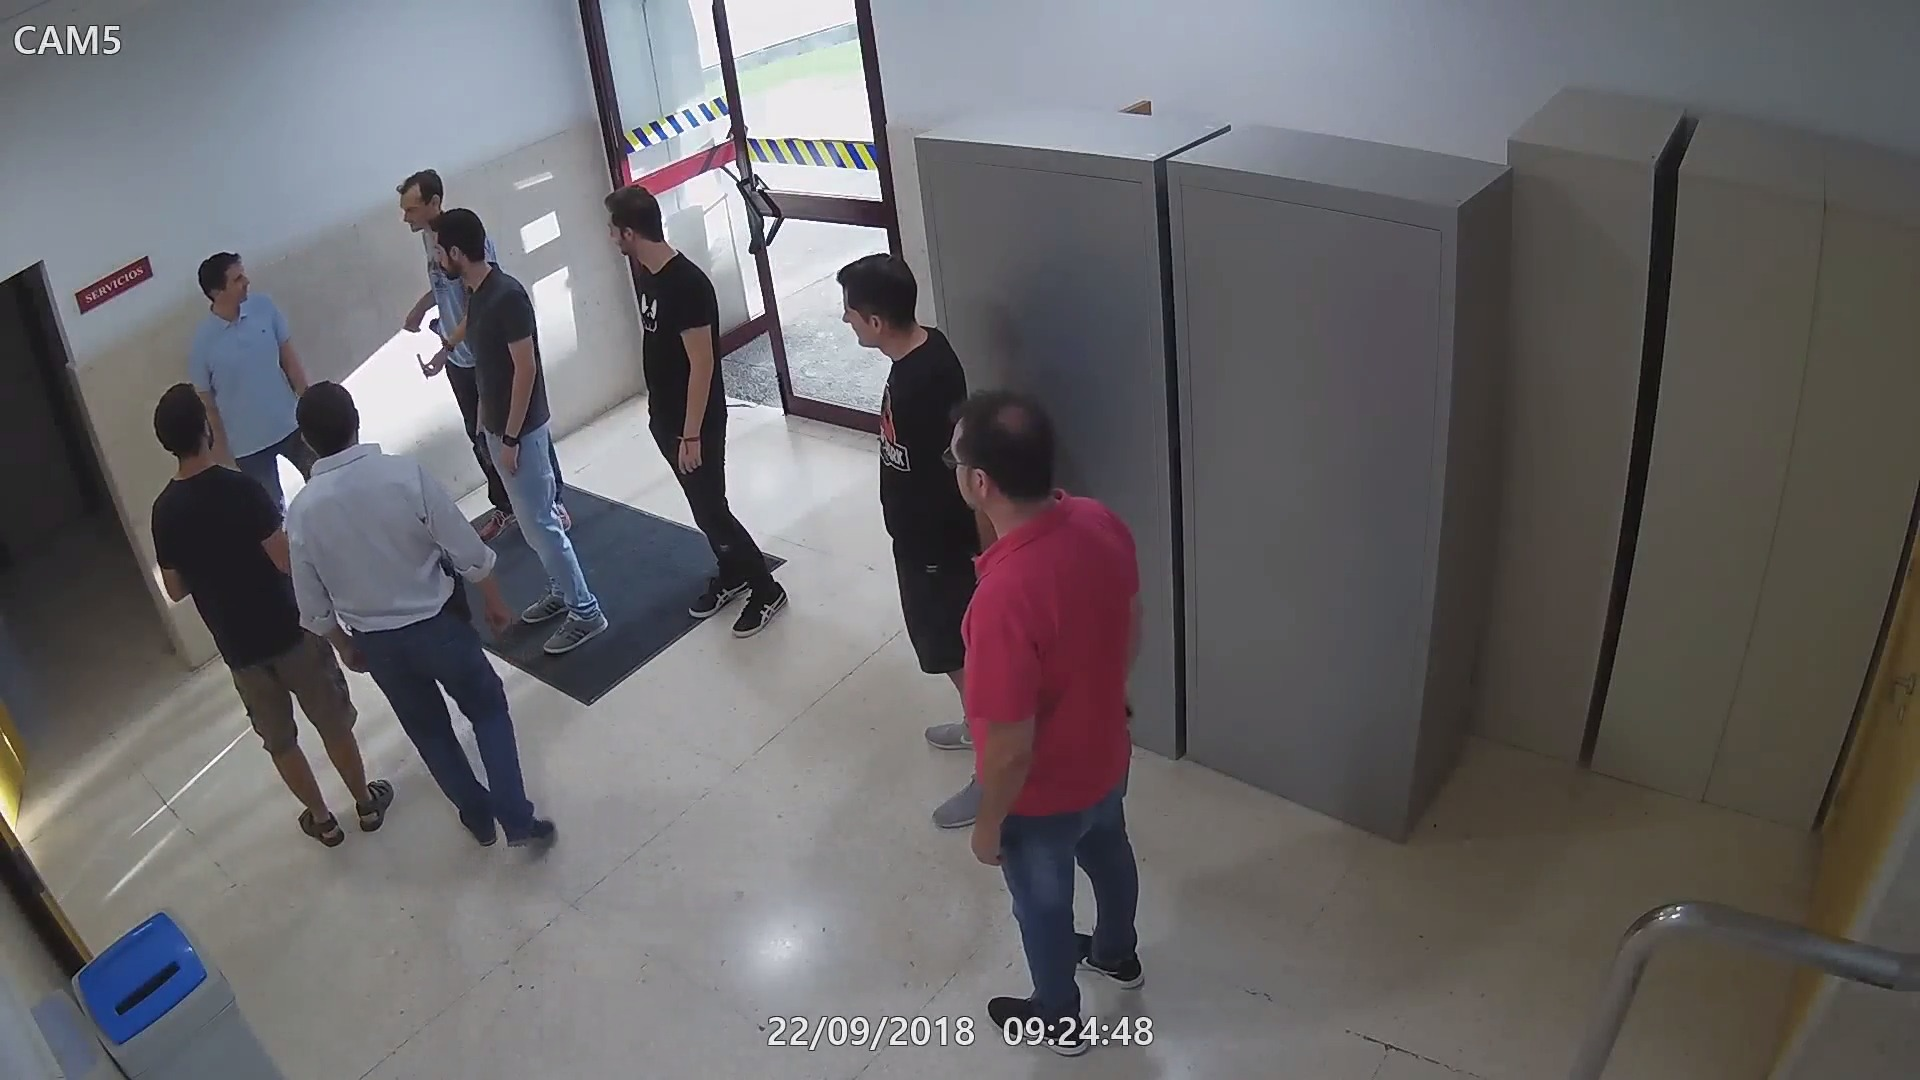knife: (411, 345, 448, 384)
pistol: (436, 556, 472, 625), (465, 419, 495, 477), (429, 311, 454, 340)
